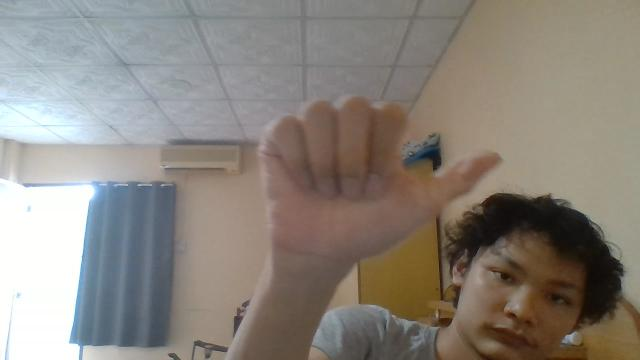left: (256, 94, 504, 268)
